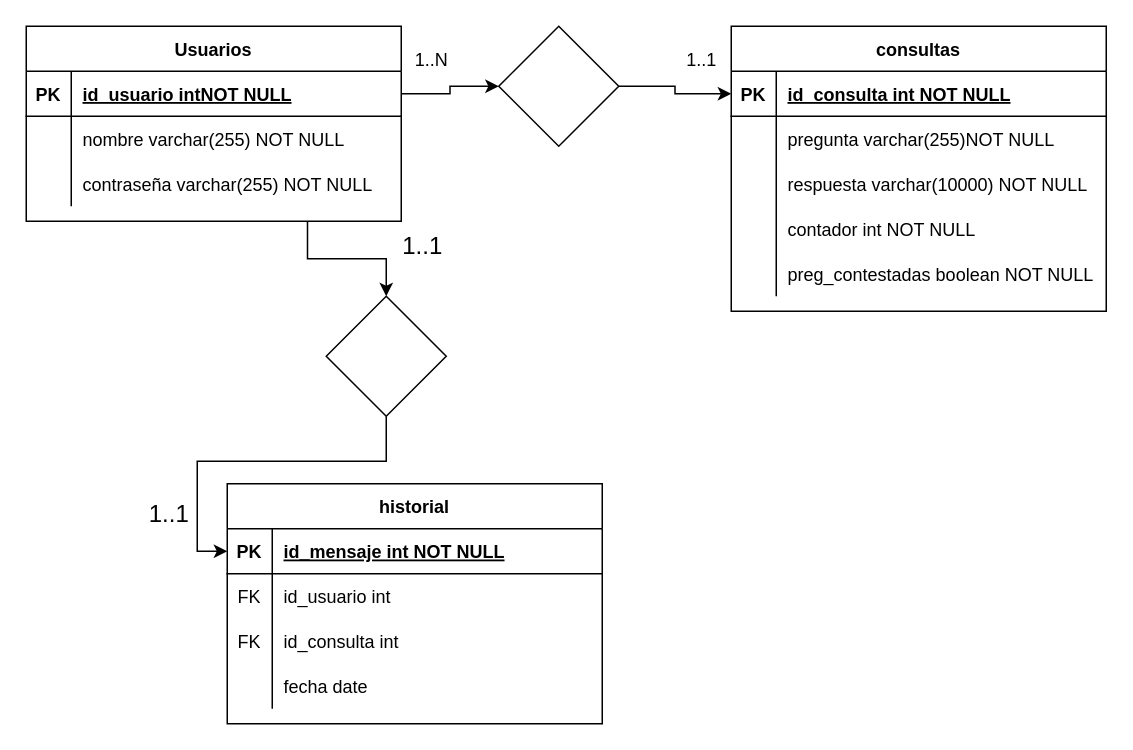
Some shapes in this 1133 by 750 pixel diagram are drawn without their labels. Here are the shapes that lost their labels. From the top down, the centre of each, then its label:
At point (558, 85): "realiza".
At point (385, 355): "tiene".
